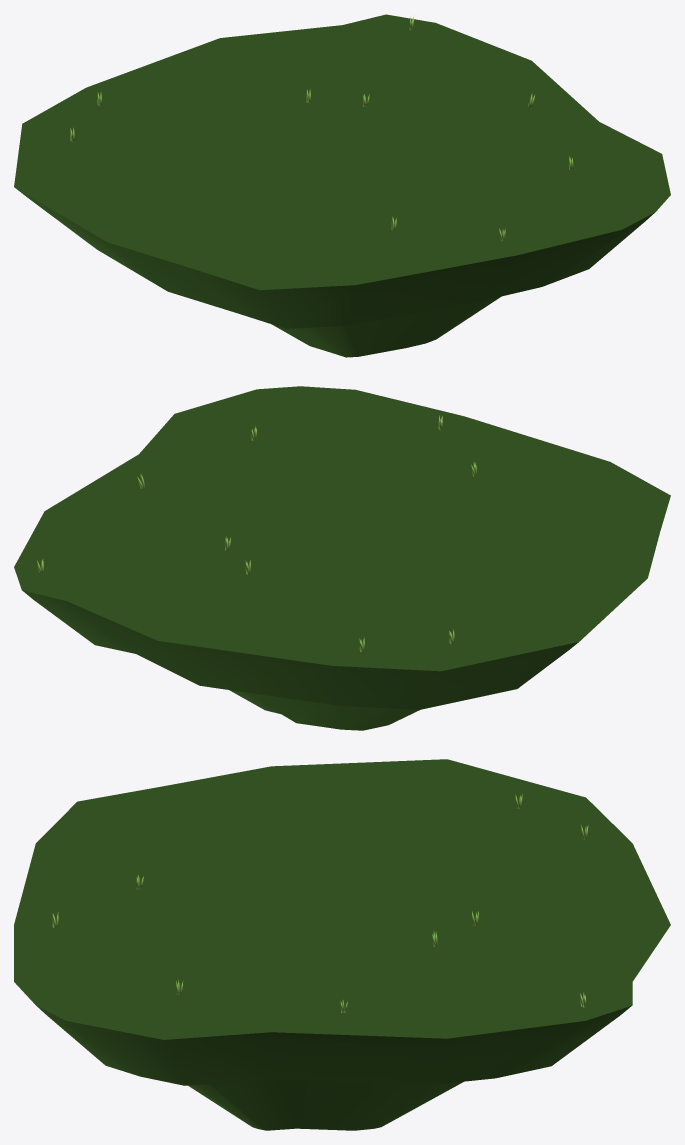
The model's file is floor.fbx.
3 views of the same model, one above another, from view 1: azimuth 30°, elevation 25°; view 2: azimuth 150°, elevation 25°; view 3: azimuth 270°, elevation 25° (orthographic). The views are drawn at different scales.
Parts seen in each view (by area): view 1: Box069; view 2: Box069; view 3: Box069.
Part boxes in pixels (box(x1,y1,x2,y2)): Box069: box(14, 14, 670, 357); Box069: box(14, 386, 670, 730); Box069: box(14, 759, 670, 1130).
Size of the model in its own units: 3269 by 1100 by 3233.
